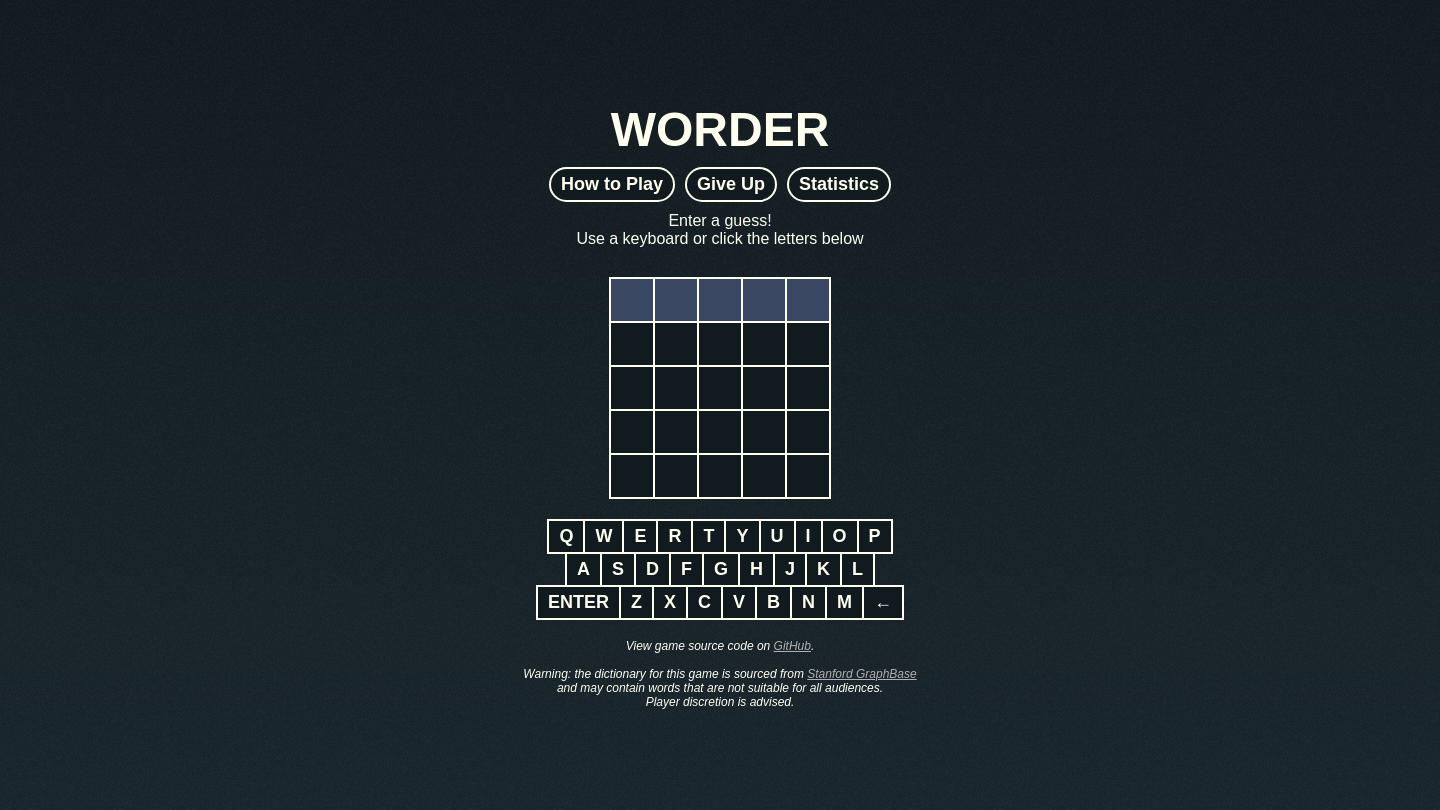
Scenario: App Component › should add letter when keyboard key is clicked
Click the button "Q".
click(566, 536)  # box [548,518,586,554]
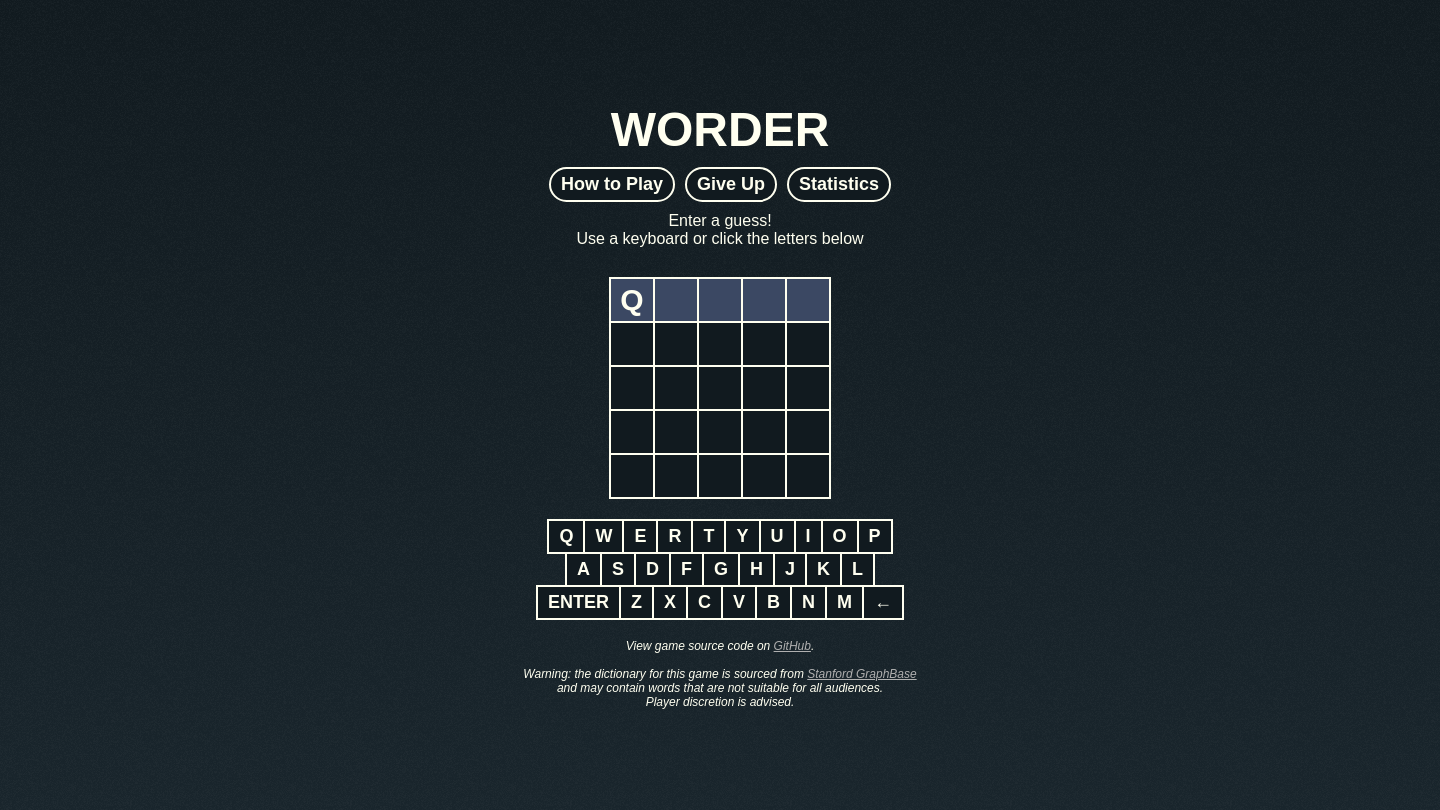
Expected: the text with class "guess-square" reads "Q", [620,282,644,316]
